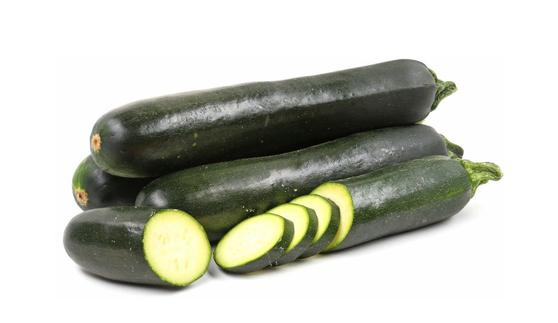zucchini: (84, 48, 454, 171)
